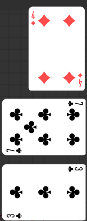3C: (5, 212, 23, 220)
4D: (29, 10, 36, 27)
7C: (66, 100, 84, 108)
